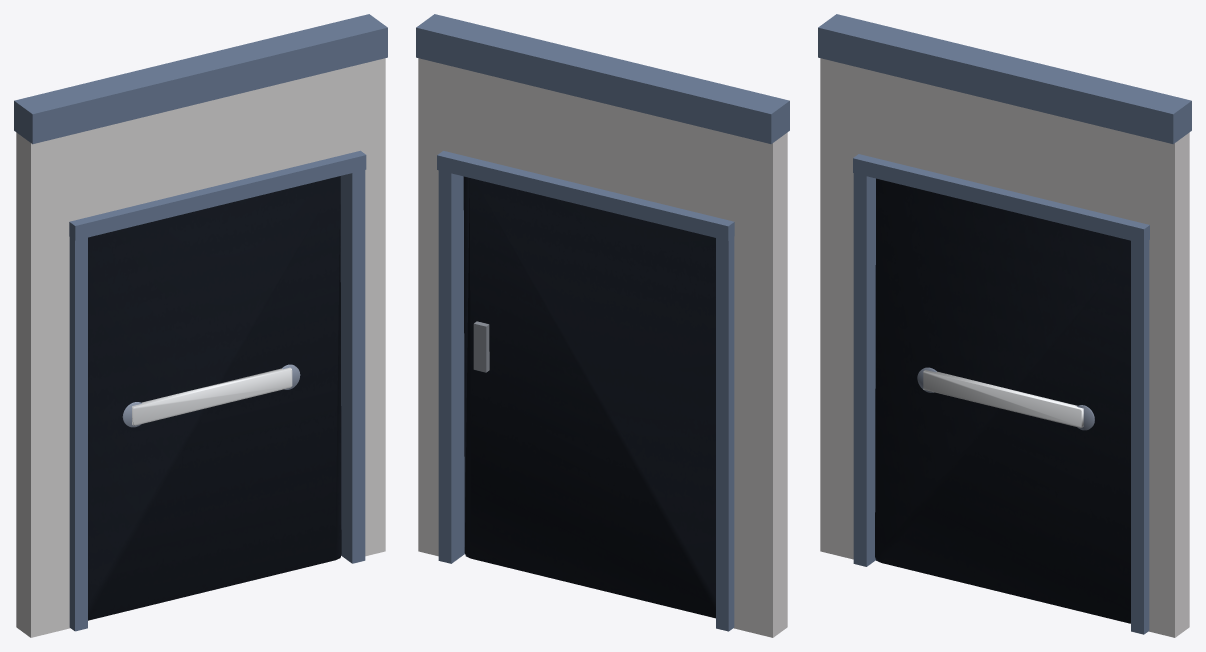
File: 01_wall_emergency_door.glb
The picture shows the model from 3 angles, left to right: view 1: azimuth 30°, elevation 25°; view 2: azimuth 150°, elevation 25°; view 3: azimuth 330°, elevation 25°; orthographic projection.
Parts seen in each view (by area): view 1: Wall_Left.001, DoorHandle; view 2: Wall_Left.001, DoorHandle; view 3: Wall_Left.001, DoorHandle.
Part boxes in pixels (bbox=[...]): Wall_Left.001: bbox=[14, 14, 387, 637]; DoorHandle: bbox=[88, 176, 341, 620]; Wall_Left.001: bbox=[416, 14, 789, 637]; DoorHandle: bbox=[463, 176, 715, 618]; Wall_Left.001: bbox=[818, 14, 1191, 637]; DoorHandle: bbox=[875, 178, 1130, 623].
Bounding box in the file's own units: 2.11 × 2.99 × 0.276.
Materials: 9 (1 with a texture image).
